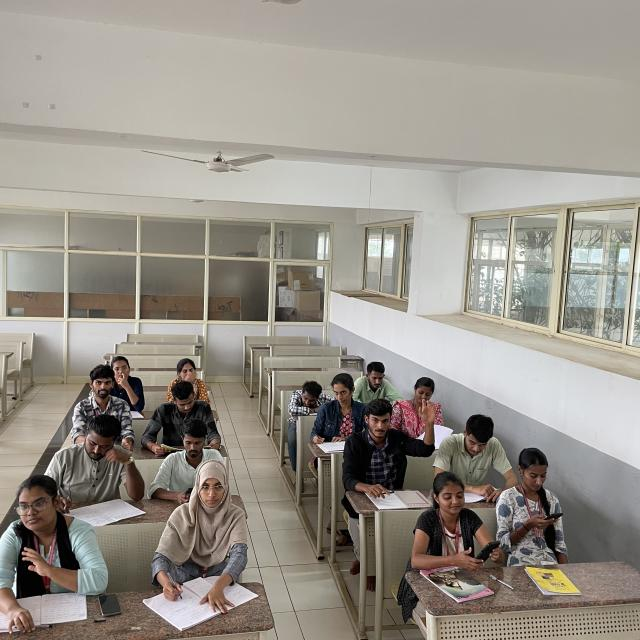Hand Rising: (342, 390, 436, 478)
Reading: (0, 478, 97, 622), (43, 416, 145, 508), (142, 382, 228, 454), (388, 378, 456, 444)
Sleeping: (278, 377, 329, 428)
Using Phone: (499, 443, 579, 555), (409, 473, 487, 574)
Writing: (154, 462, 248, 604), (314, 375, 368, 453)
